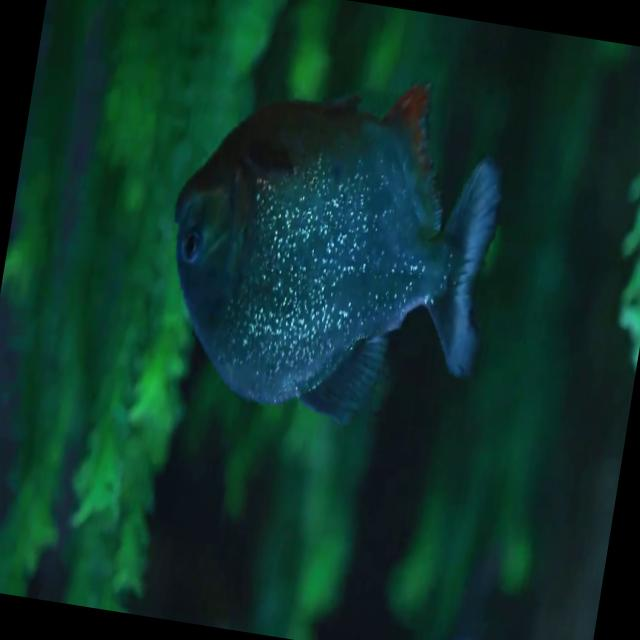fish: (143, 41, 537, 460)
